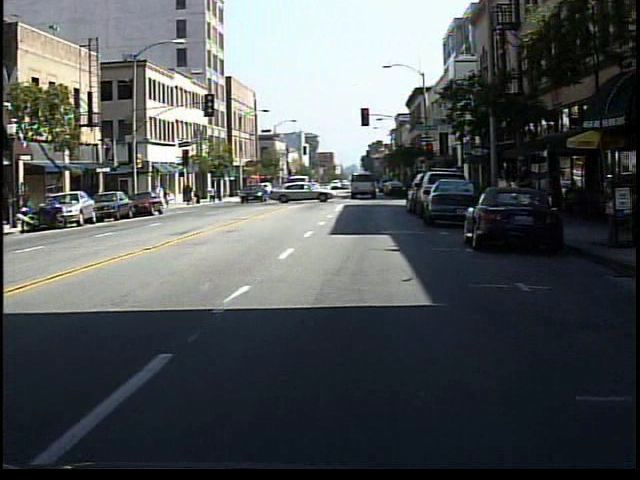person: (510, 153, 537, 239), (496, 163, 516, 231)
